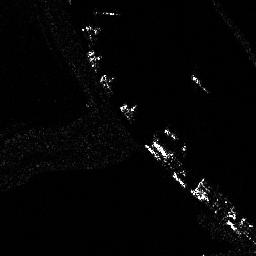ship: (164, 128, 188, 151), (192, 74, 210, 95)
